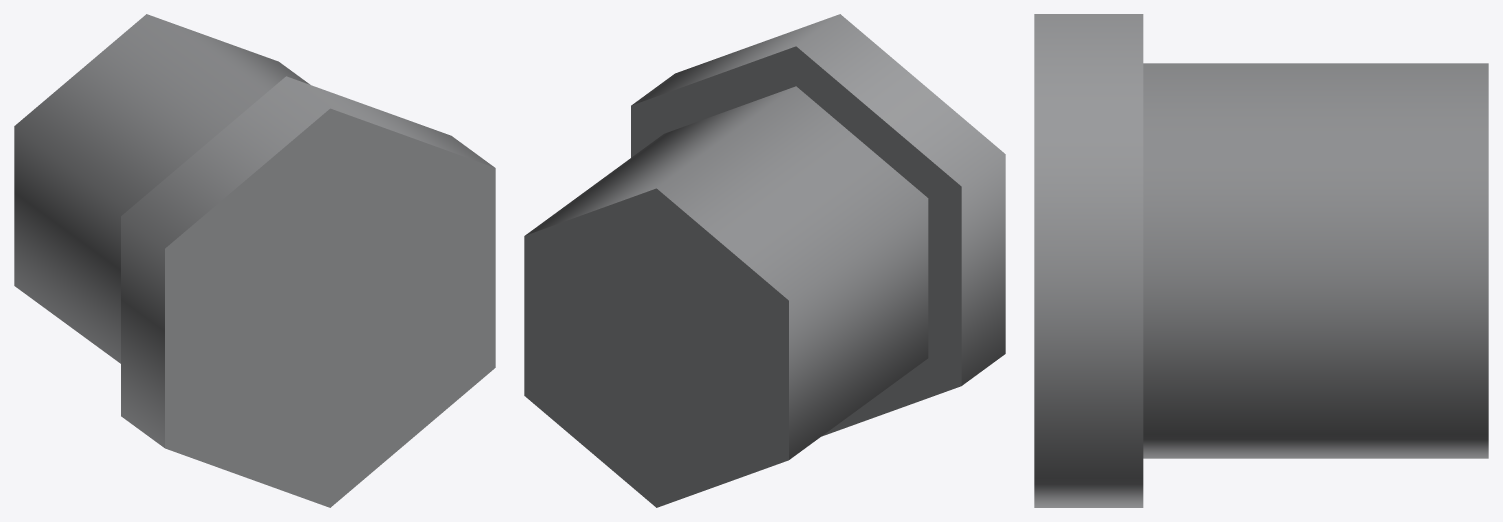
3 views of the same model, side by side, from view 1: azimuth 30°, elevation 25°; view 2: azimuth 150°, elevation 25°; view 3: azimuth 270°, elevation 25° (orthographic). The views are drawn at different scales.
Size of the model in its own units: 0.1299 by 0.15 by 0.125.
